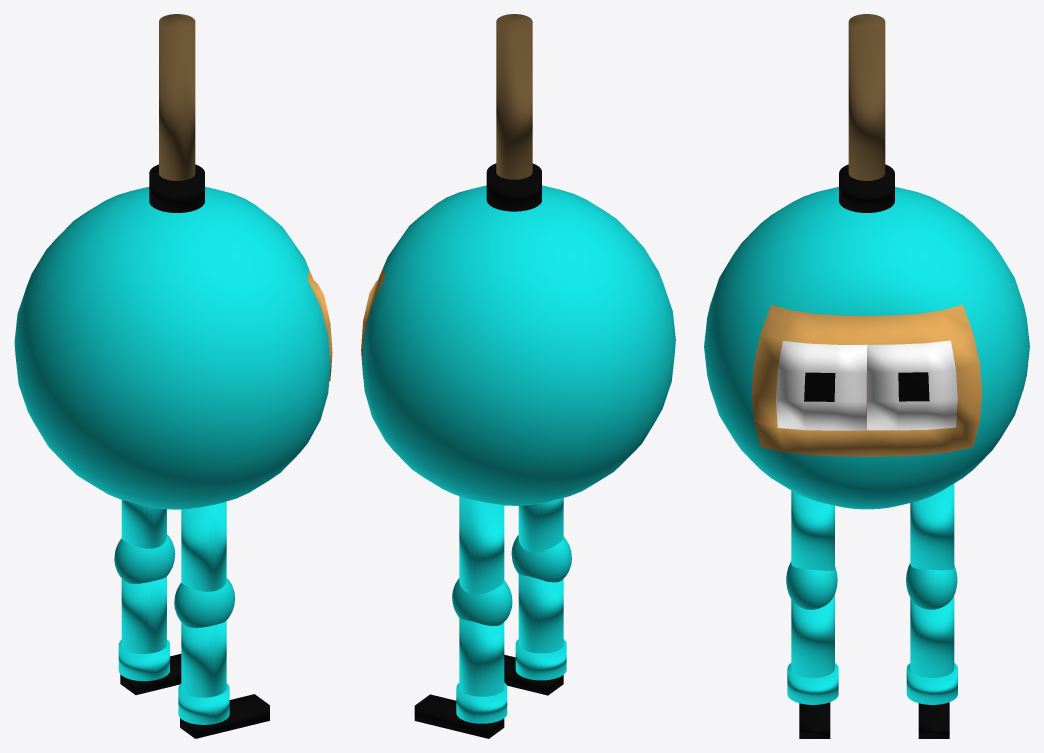
The model's file is Bombe.fbx.
3 renders of one model, left to right at view 1: azimuth 30°, elevation 25°; view 2: azimuth 150°, elevation 25°; view 3: azimuth 270°, elevation 25°, orthographic.
Visible parts, largest first — view 1: Cube; view 2: Cube; view 3: Cube.
Part boxes in pixels (x1,y1,x2,y2): Cube: [14, 14, 332, 738]; Cube: [361, 14, 675, 738]; Cube: [704, 14, 1029, 738].
Size of the model in its own units: 182 by 466 by 200.
